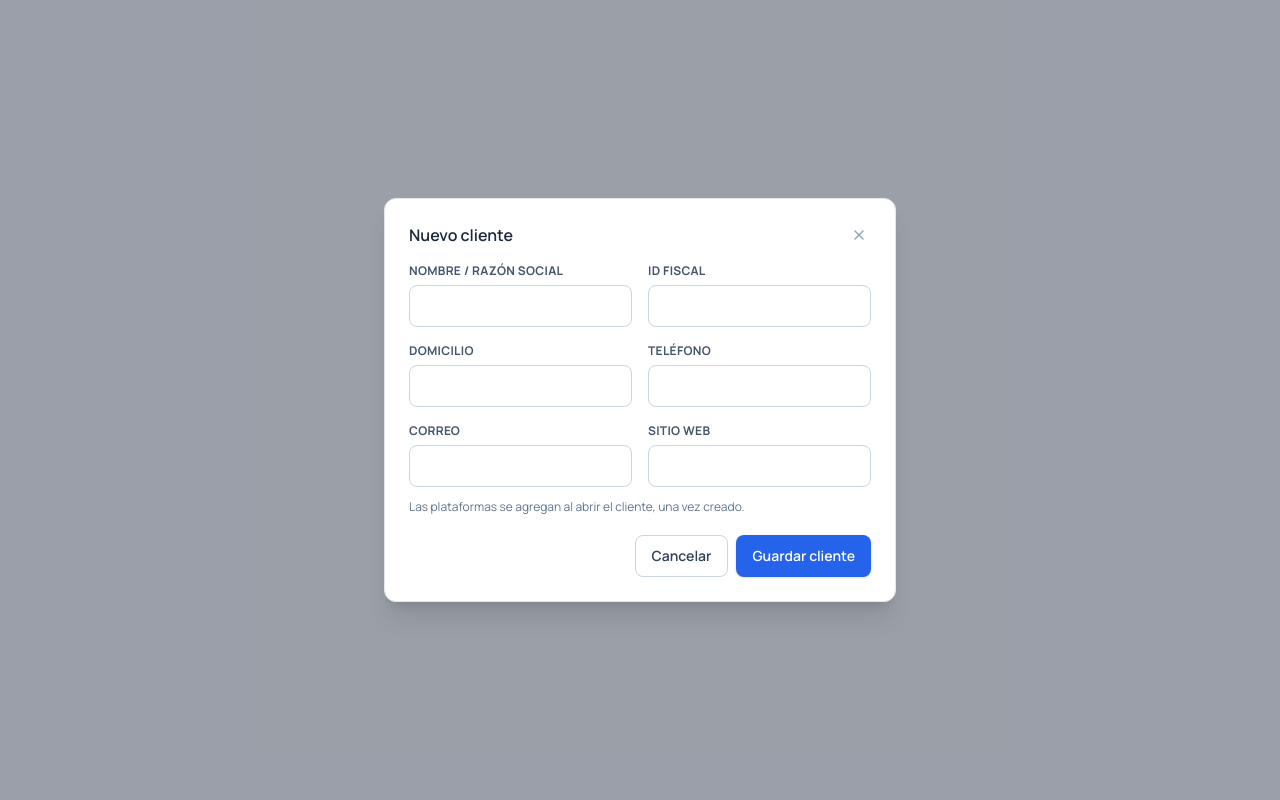
Test: AddClientModal › does not POST when name is empty
Click the button "Guardar cliente" at [804, 556], box [736, 535, 871, 577]
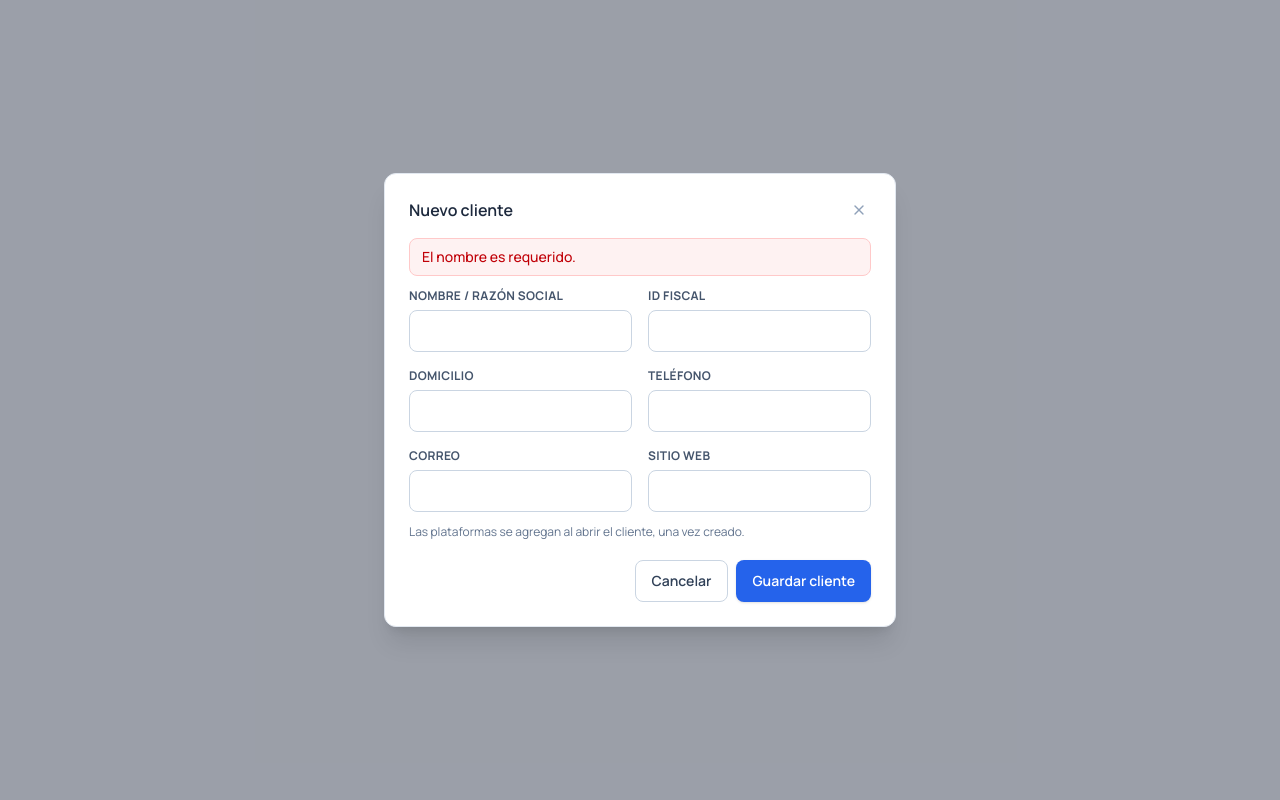
Expected: the text "El nombre es requerido." is shown, [409, 238, 871, 276]
